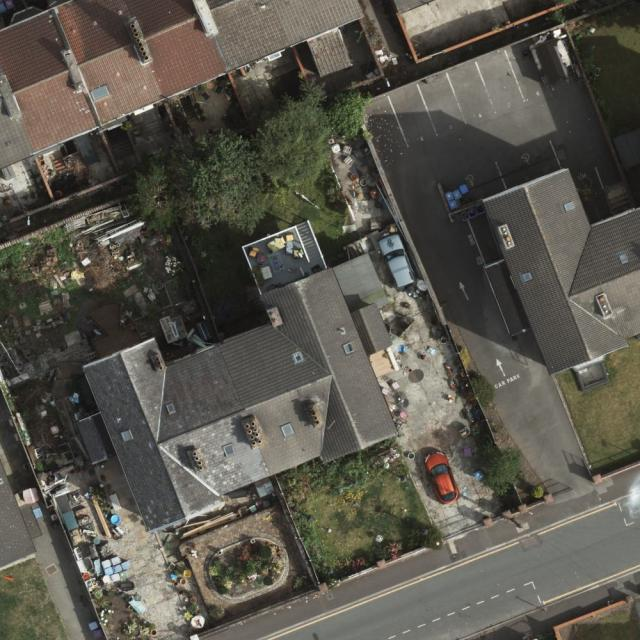roof: (82, 253, 399, 534), (0, 1, 367, 169), (476, 165, 640, 376), (0, 459, 34, 567)
skylight: (274, 416, 298, 443), (88, 81, 112, 105), (337, 336, 358, 360), (615, 248, 633, 269), (556, 199, 578, 216), (219, 440, 237, 459), (118, 425, 135, 444), (163, 401, 182, 418), (518, 268, 534, 287), (291, 349, 305, 369)
